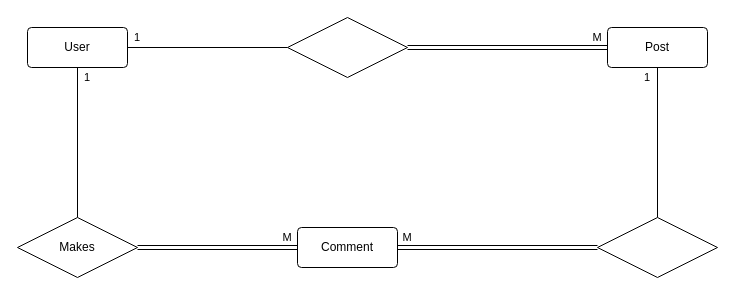
This 735x295 diagram has some shape labels left out. Here are the shapes that lost their labels. From the top down, the box of each, then its label:
(286, 16, 408, 78): Creates
(596, 216, 718, 278): Has
